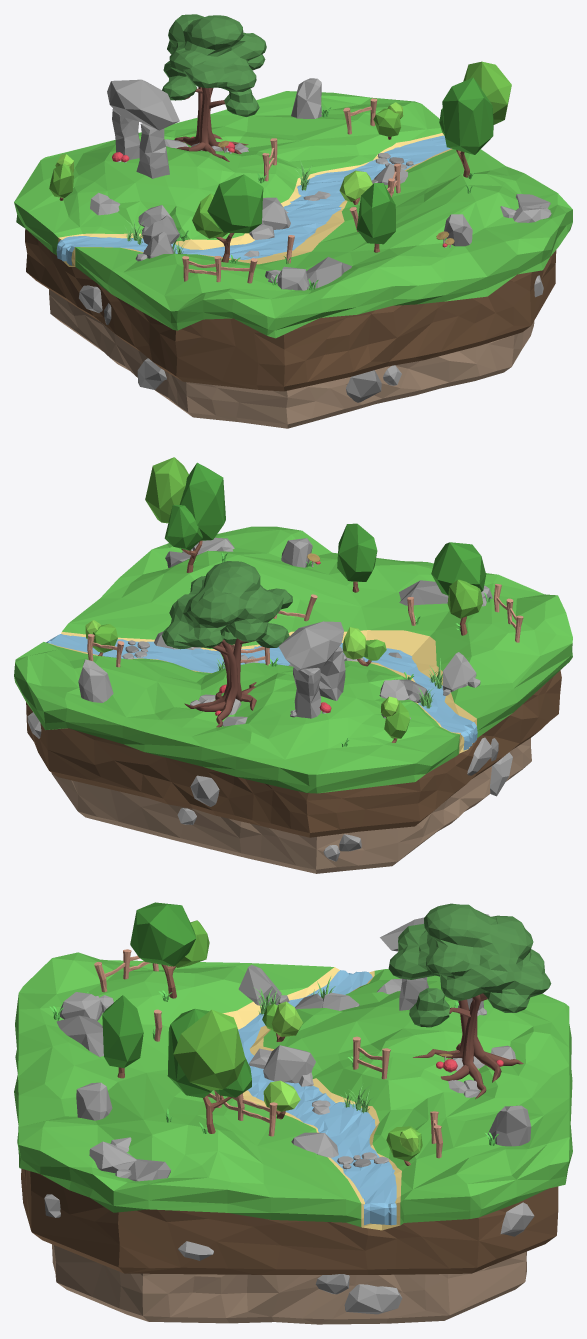
3 views of the same model, one above another, from view 1: azimuth 30°, elevation 25°; view 2: azimuth 150°, elevation 25°; view 3: azimuth 270°, elevation 25° (orthographic). The views are drawn at different scales.
Parts seen in each view (by area): view 1: Plane.001, Cube.002, Cube.003, Mball.016, Plane.003, Cube, Cube.030, Cube.035, Icosphere.019, Icosphere.012, Cube.041, Icosphere.008 (+9 smaller); view 2: Plane.001, Cube.002, Cube.003, Mball.016, Cube.030, Plane.003, Cube, Cube.035, Icosphere.019, Icosphere.012, Cube.031, Cube.041 (+7 smaller); view 3: Plane.001, Cube.002, Cube.003, Mball.016, Plane.003, Cube.030, Cube.035, Icosphere.019, Cube.008, Icosphere.012, Icosphere.000, Cube (+15 smaller).
Part boxes in pixels (left/top/right/bottom): Plane.001: left=14, top=91, right=572, bottom=338; Cube.002: left=25, top=229, right=556, bottom=391; Cube.003: left=49, top=289, right=534, bottom=428; Mball.016: left=162, top=14, right=266, bottom=161; Plane.003: left=56, top=135, right=450, bottom=265; Cube: left=107, top=79, right=179, bottom=178; Cube.030: left=439, top=61, right=511, bottom=177; Cube.035: left=192, top=174, right=263, bottom=262; Icosphere.019: left=356, top=183, right=395, bottom=252; Icosphere.012: left=291, top=78, right=321, bottom=118; Cube.041: left=49, top=154, right=73, bottom=200; Icosphere.008: left=306, top=257, right=351, bottom=288; Plane.001: left=14, top=526, right=572, bottom=793; Cube.002: left=26, top=670, right=561, bottom=837; Cube.003: left=51, top=738, right=531, bottom=873; Mball.016: left=162, top=561, right=292, bottom=727; Cube.030: left=145, top=457, right=225, bottom=572; Plane.003: left=46, top=634, right=477, bottom=750; Cube: left=278, top=621, right=345, bottom=718; Cube.035: left=431, top=542, right=486, bottom=635; Icosphere.019: left=337, top=523, right=377, bottom=592; Icosphere.012: left=78, top=659, right=113, bottom=702; Cube.031: left=342, top=627, right=386, bottom=666; Cube.041: left=381, top=696, right=409, bottom=742; Plane.001: left=14, top=952, right=572, bottom=1230; Cube.002: left=21, top=1168, right=558, bottom=1274; Cube.003: left=52, top=1244, right=526, bottom=1324; Mball.016: left=388, top=903, right=551, bottom=1098; Plane.003: left=238, top=970, right=396, bottom=1225; Cube.030: left=167, top=1008, right=251, bottom=1133; Cube.035: left=130, top=902, right=209, bottom=998; Icosphere.019: left=102, top=995, right=143, bottom=1078; Cube.008: left=263, top=1045, right=315, bottom=1083; Icosphere.012: left=488, top=1105, right=531, bottom=1146; Icosphere.000: left=344, top=1284, right=402, bottom=1314; Cube: left=380, top=914, right=489, bottom=1010.
Size of the model in its own units: 16.38 by 9.97 by 16.24.
